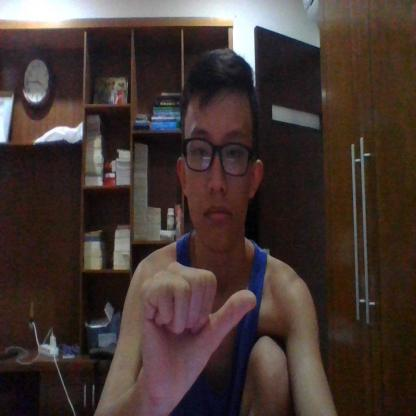left: (140, 260, 256, 392)
